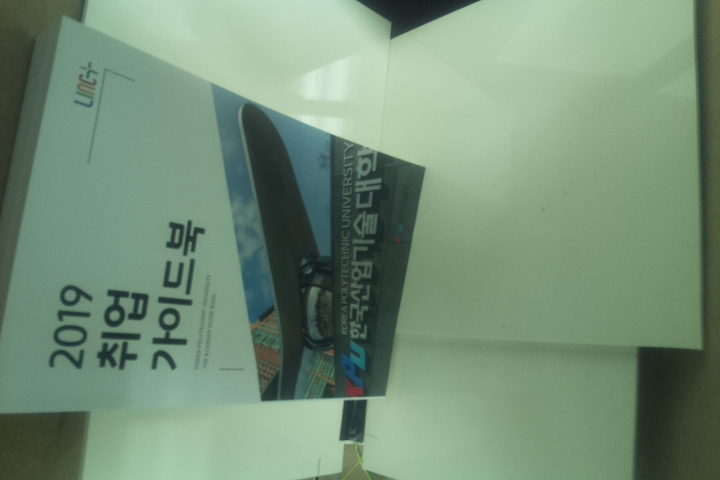book: (1, 13, 427, 419)
